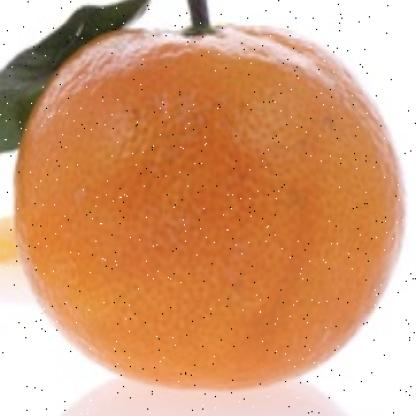fresh: (11, 27, 404, 390)
